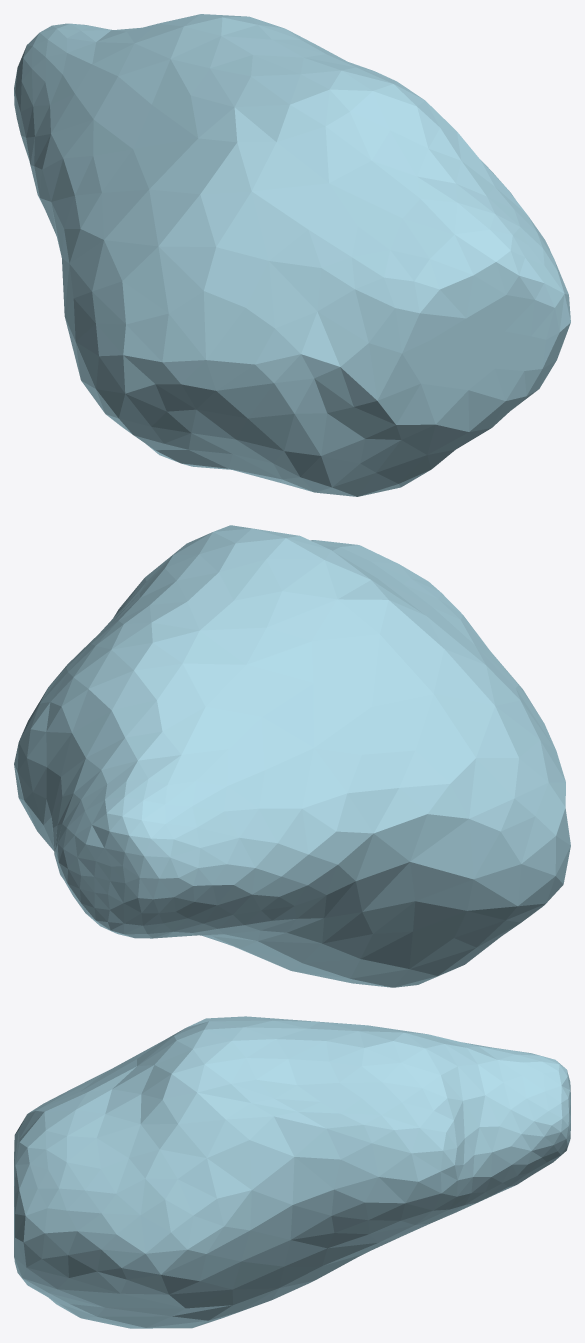
File: livertumor04.obj
3 views of the same model, one above another, from view 1: azimuth 30°, elevation 25°; view 2: azimuth 150°, elevation 25°; view 3: azimuth 270°, elevation 25° (orthographic). The views are drawn at different scales.
Visible parts, largest first — view 1: grp1; view 2: grp1; view 3: grp1.
Part boxes in pixels (x1=…): grp1: x1=14, y1=14, x2=570, y2=496; grp1: x1=14, y1=525, x2=570, y2=987; grp1: x1=14, y1=1016, x2=570, y2=1328.
Size of the model in its own units: 17.38 by 14.34 by 24.
